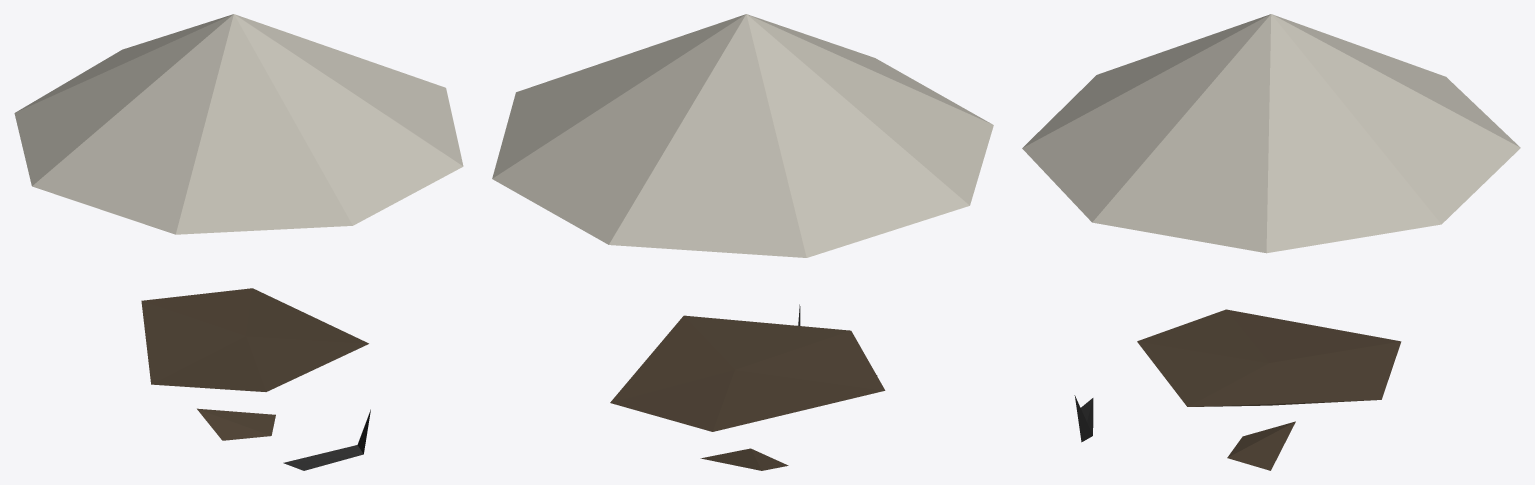
Rendered from bay-beach-table.lod2.glb.
The picture shows the model from 3 angles, left to right: view 1: azimuth 30°, elevation 25°; view 2: azimuth 150°, elevation 25°; view 3: azimuth 270°, elevation 25°; orthographic projection. The views are drawn at different scales.
Parts seen in each view (by area): view 1: pCone2_lambert1_0; view 2: pCone2_lambert1_0; view 3: pCone2_lambert1_0.
Boxes of the visible parts, x1,y1,x2,y2 form: pCone2_lambert1_0: [14, 14, 463, 470]; pCone2_lambert1_0: [492, 14, 993, 470]; pCone2_lambert1_0: [1022, 14, 1520, 470].
Size of the model in its own units: 2.14 by 2.04 by 2.12.
